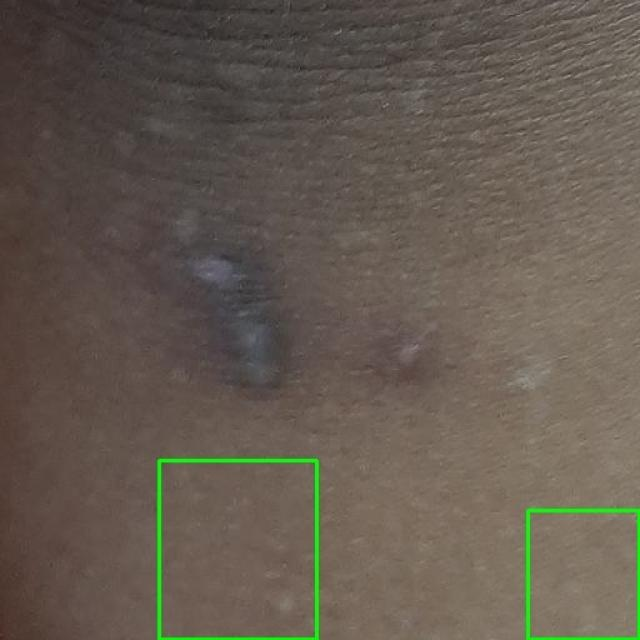Scabies: (159, 460, 316, 639), (528, 510, 639, 639)
